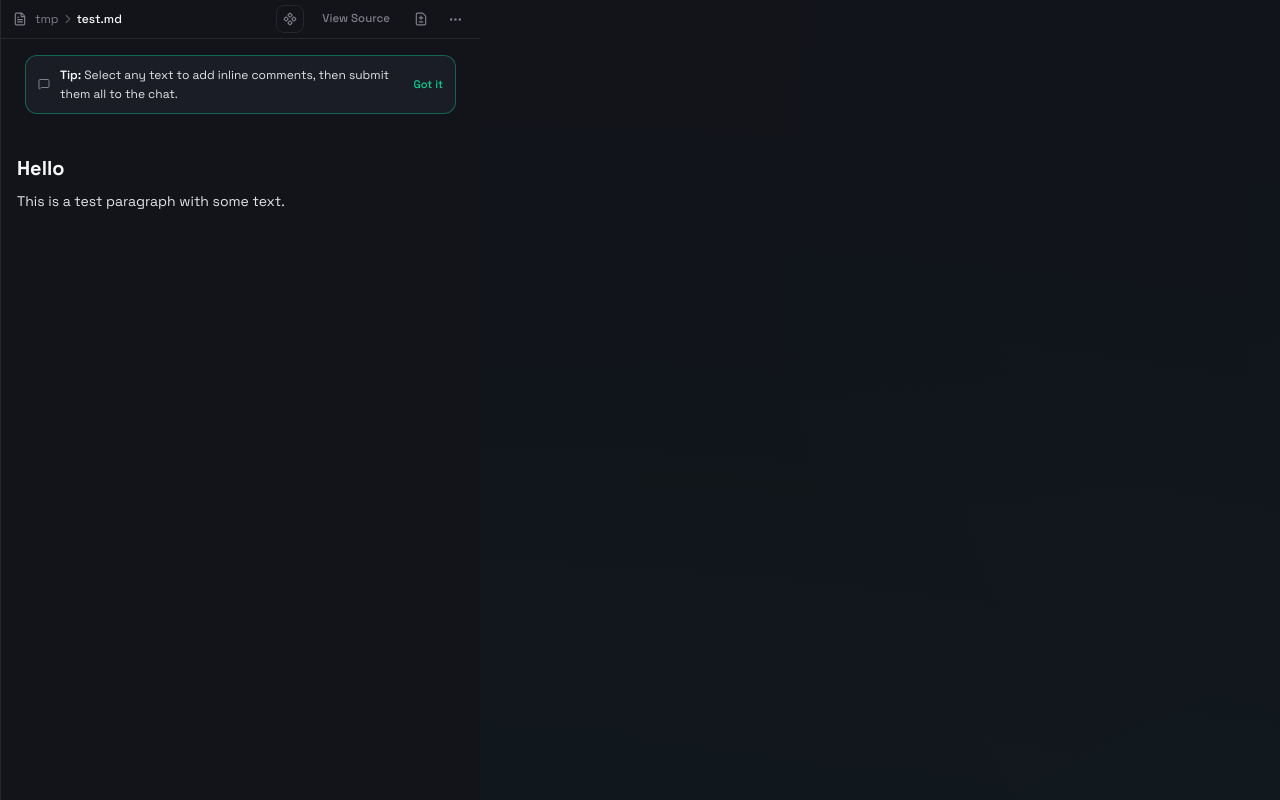
Test: MarkdownPanel comment/copy flow › dismisses comment hint when Got it is clicked
Click the button "Got it". click: (428, 85)
box: [414,76,443,93]
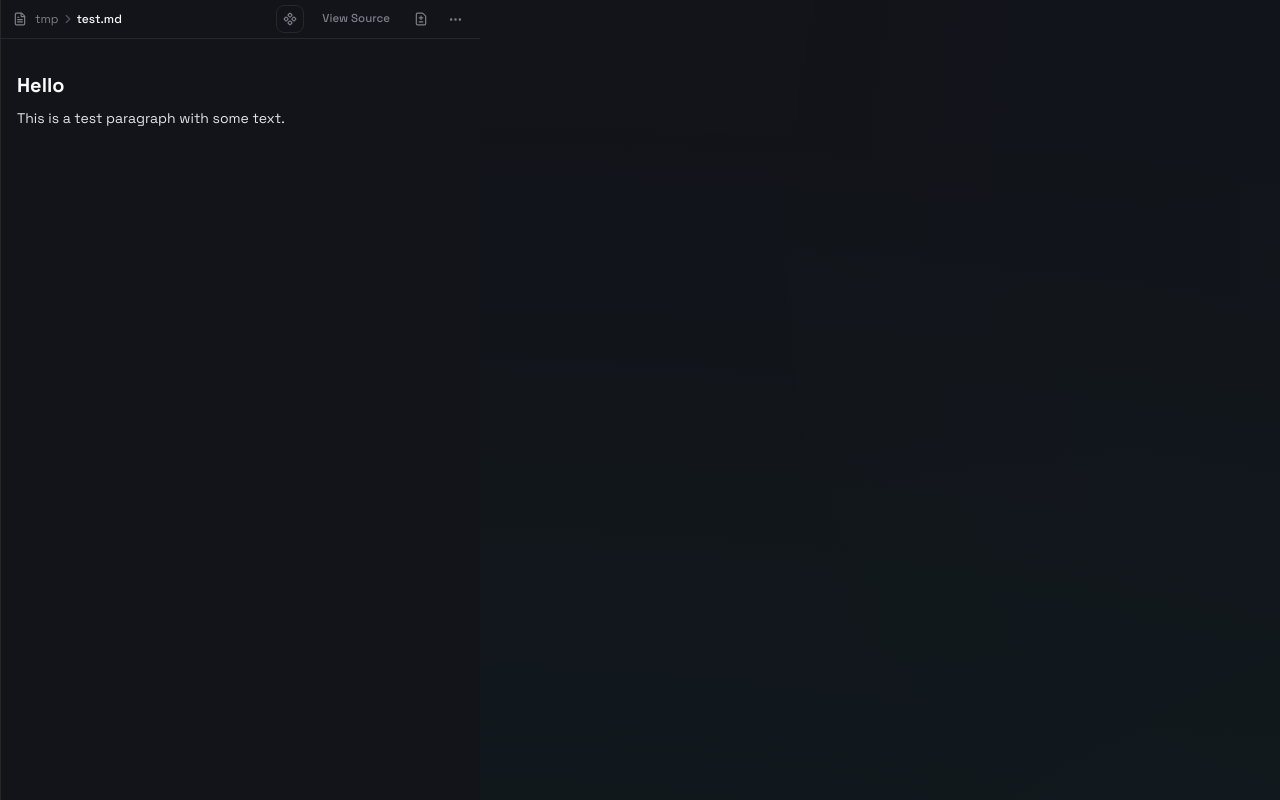
Result: the button "Got it" is gone
